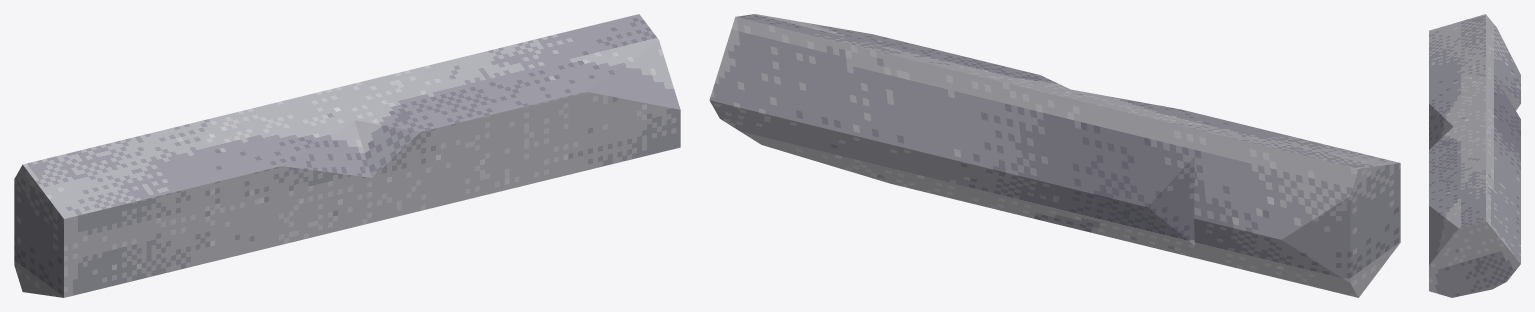
The model's file is Gesso_2.fbx.
3 renders of one model, left to right at view 1: azimuth 30°, elevation 25°; view 2: azimuth 150°, elevation 25°; view 3: azimuth 270°, elevation 25°, orthographic. The views are drawn at different scales.
Parts seen in each view (by area): view 1: Cylinder.006; view 2: Cylinder.006; view 3: Cylinder.006.
Part boxes in pixels (x1=…): Cylinder.006: x1=14, y1=14, x2=680, y2=297; Cylinder.006: x1=709, y1=14, x2=1400, y2=297; Cylinder.006: x1=1429, y1=14, x2=1520, y2=297.
Bounding box in the file's own units: 0.0165 × 0.00326 × 0.0031.
1 material, 1 textured.
